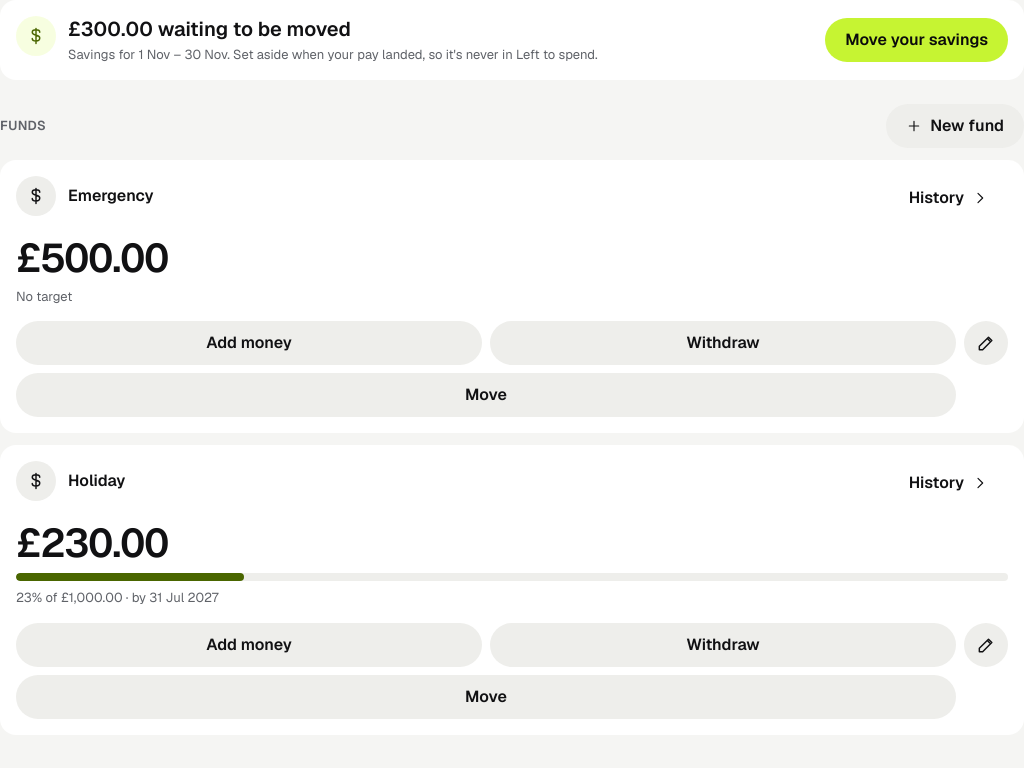
it: MoveSavingsSheet › pre-fills last period's split and shows what is left to place, with Confirm disabled
Click the button "Move your savings": (917, 40) [825, 18, 1008, 62]
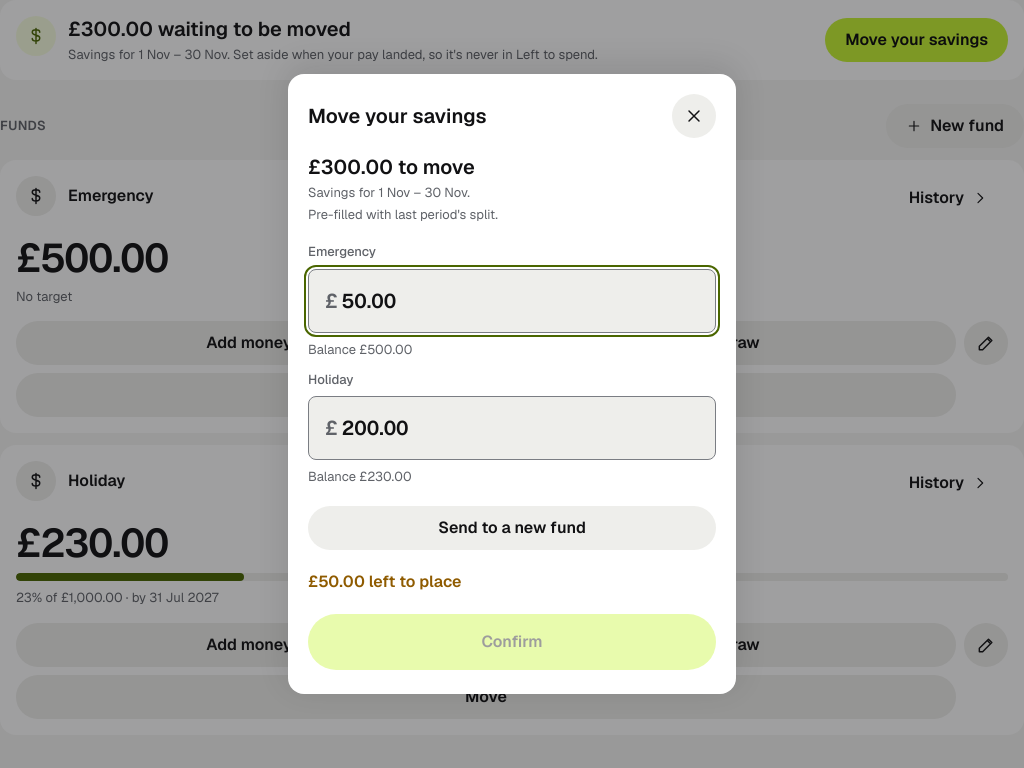
expect the field labelled "Holiday" holds "200.00": met, box [342, 415, 699, 441]
expect the field labelled "Emergency" holds "50.00": met, box [342, 288, 699, 314]
expect the text "Pre-filled with last period's split." is shown: met, box [308, 206, 498, 223]
